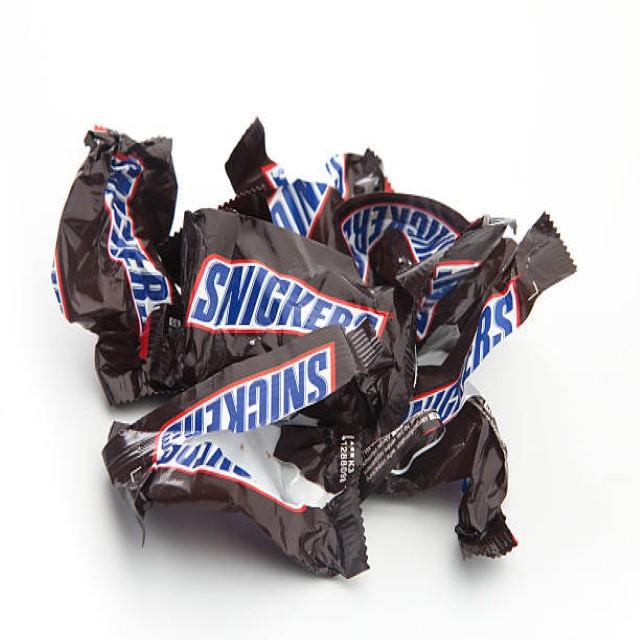snickers_chocolate: (113, 330, 372, 517), (175, 227, 390, 385), (73, 125, 205, 382)
